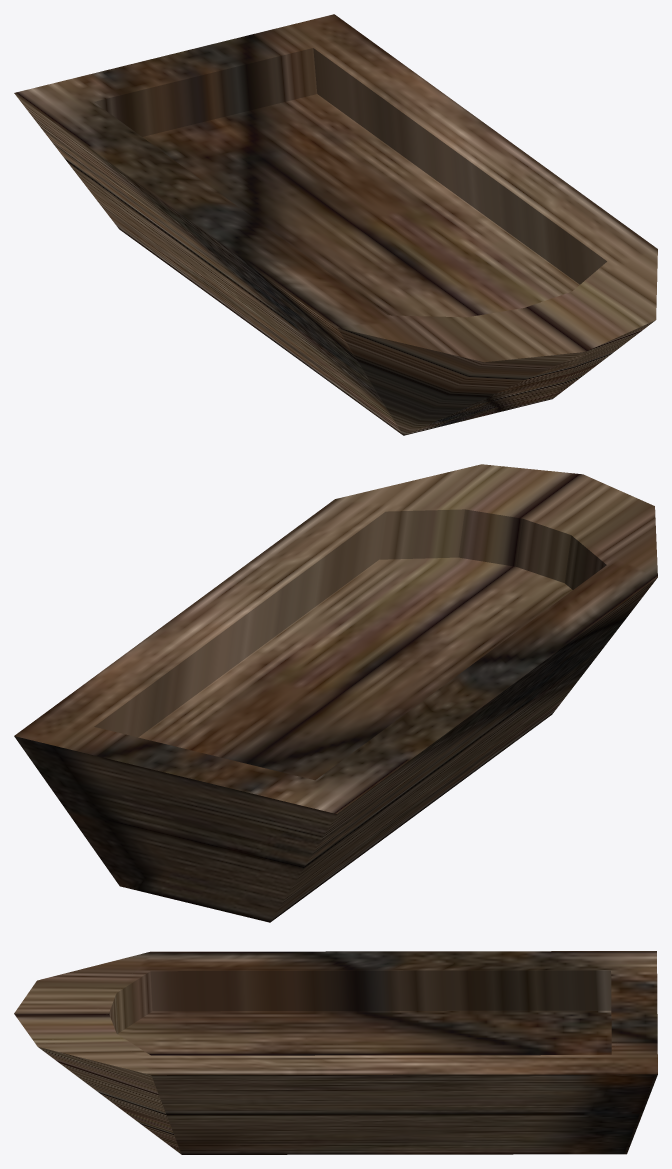
File: ship.obj
3 renders of one model, top to bottom at view 1: azimuth 30°, elevation 25°; view 2: azimuth 150°, elevation 25°; view 3: azimuth 270°, elevation 25°, orthographic. The views are drawn at different scales.
Visible parts, largest first — view 1: 立方体; view 2: 立方体; view 3: 立方体.
Part boxes in pixels (x1=…): 立方体: x1=14, y1=14, x2=657, y2=435; 立方体: x1=14, y1=464, x2=657, y2=922; 立方体: x1=14, y1=951, x2=657, y2=1154.
Size of the model in its own units: 3.57 by 1.51 by 7.83.
1 material, 1 textured.
